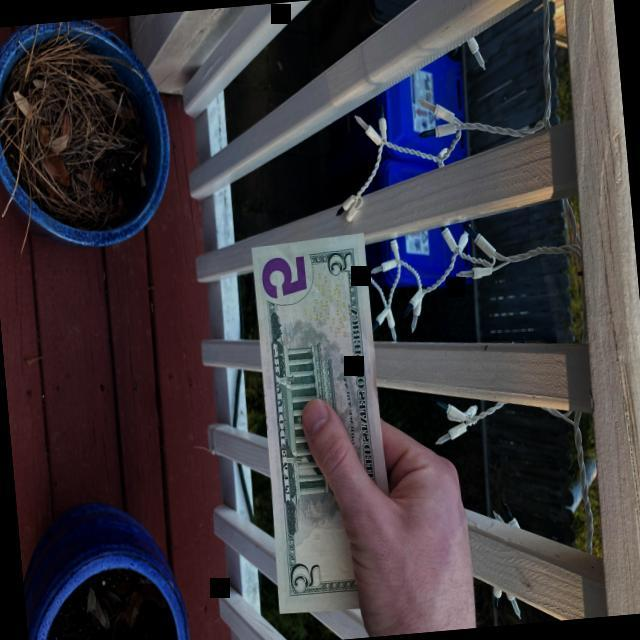five: (249, 234, 394, 614)
